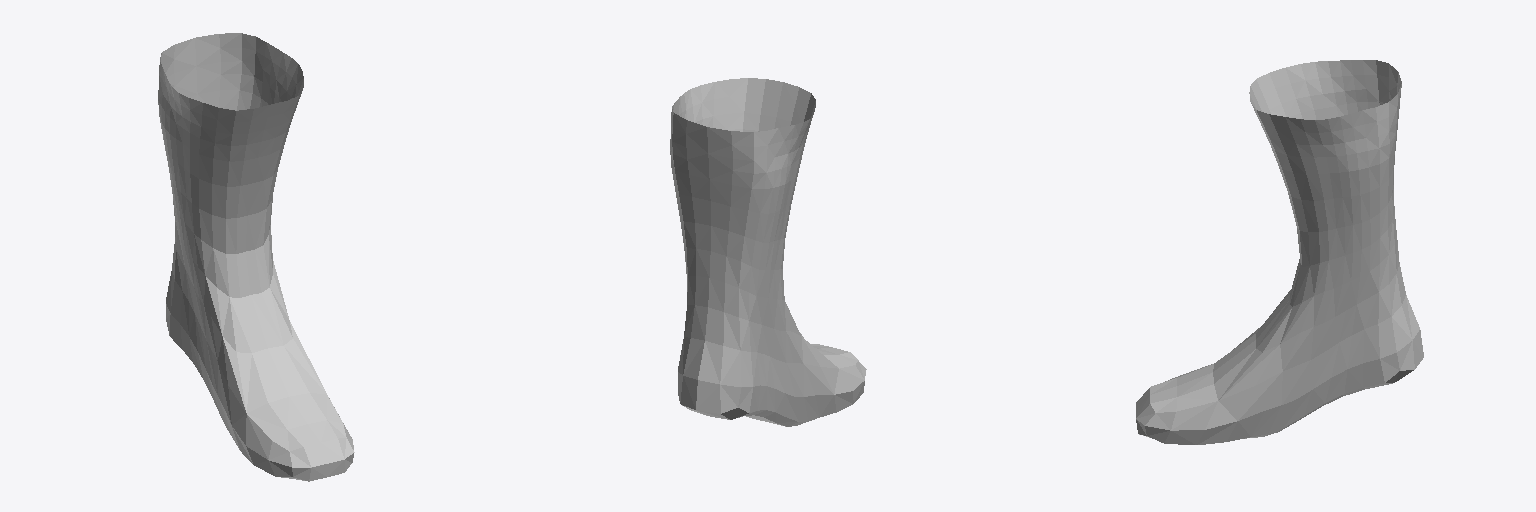
The model's file is sock.obj.
3 views of the same model, side by side, from view 1: azimuth 30°, elevation 25°; view 2: azimuth 150°, elevation 25°; view 3: azimuth 270°, elevation 25° (orthographic).
Visible parts, largest first — view 1: Cube.001; view 2: Cube.001; view 3: Cube.001.
Boxes of the visible parts, x1,y1,x2,y2 form: Cube.001: [158, 33, 354, 481]; Cube.001: [670, 78, 866, 426]; Cube.001: [1136, 60, 1423, 444].
Bounding box in the file's own units: 0.1082 × 0.299 × 0.225.